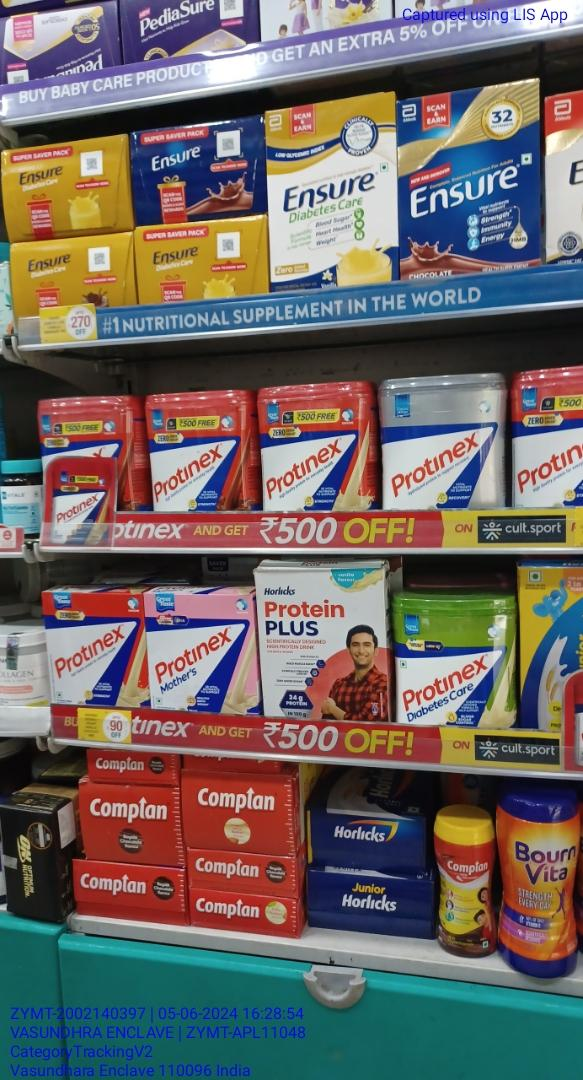BOURN_VITA_500_G_JAR: (500, 794, 576, 981)
COMPLAN_CHOCOLATE_200_GMS_JAR: (437, 816, 496, 959)
PROTINEX_CHOCOLATE_400_G_JAR: (147, 396, 245, 513)
PROTINEX_ORIGINAL_400_G_JAR: (379, 377, 505, 507)
PROTINEX_VANILLA_400_G_JAR: (256, 389, 370, 509)
